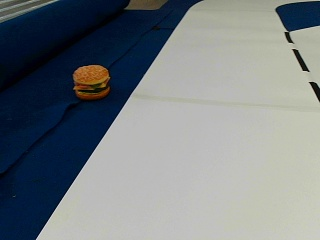burger: (72, 63, 110, 99)
